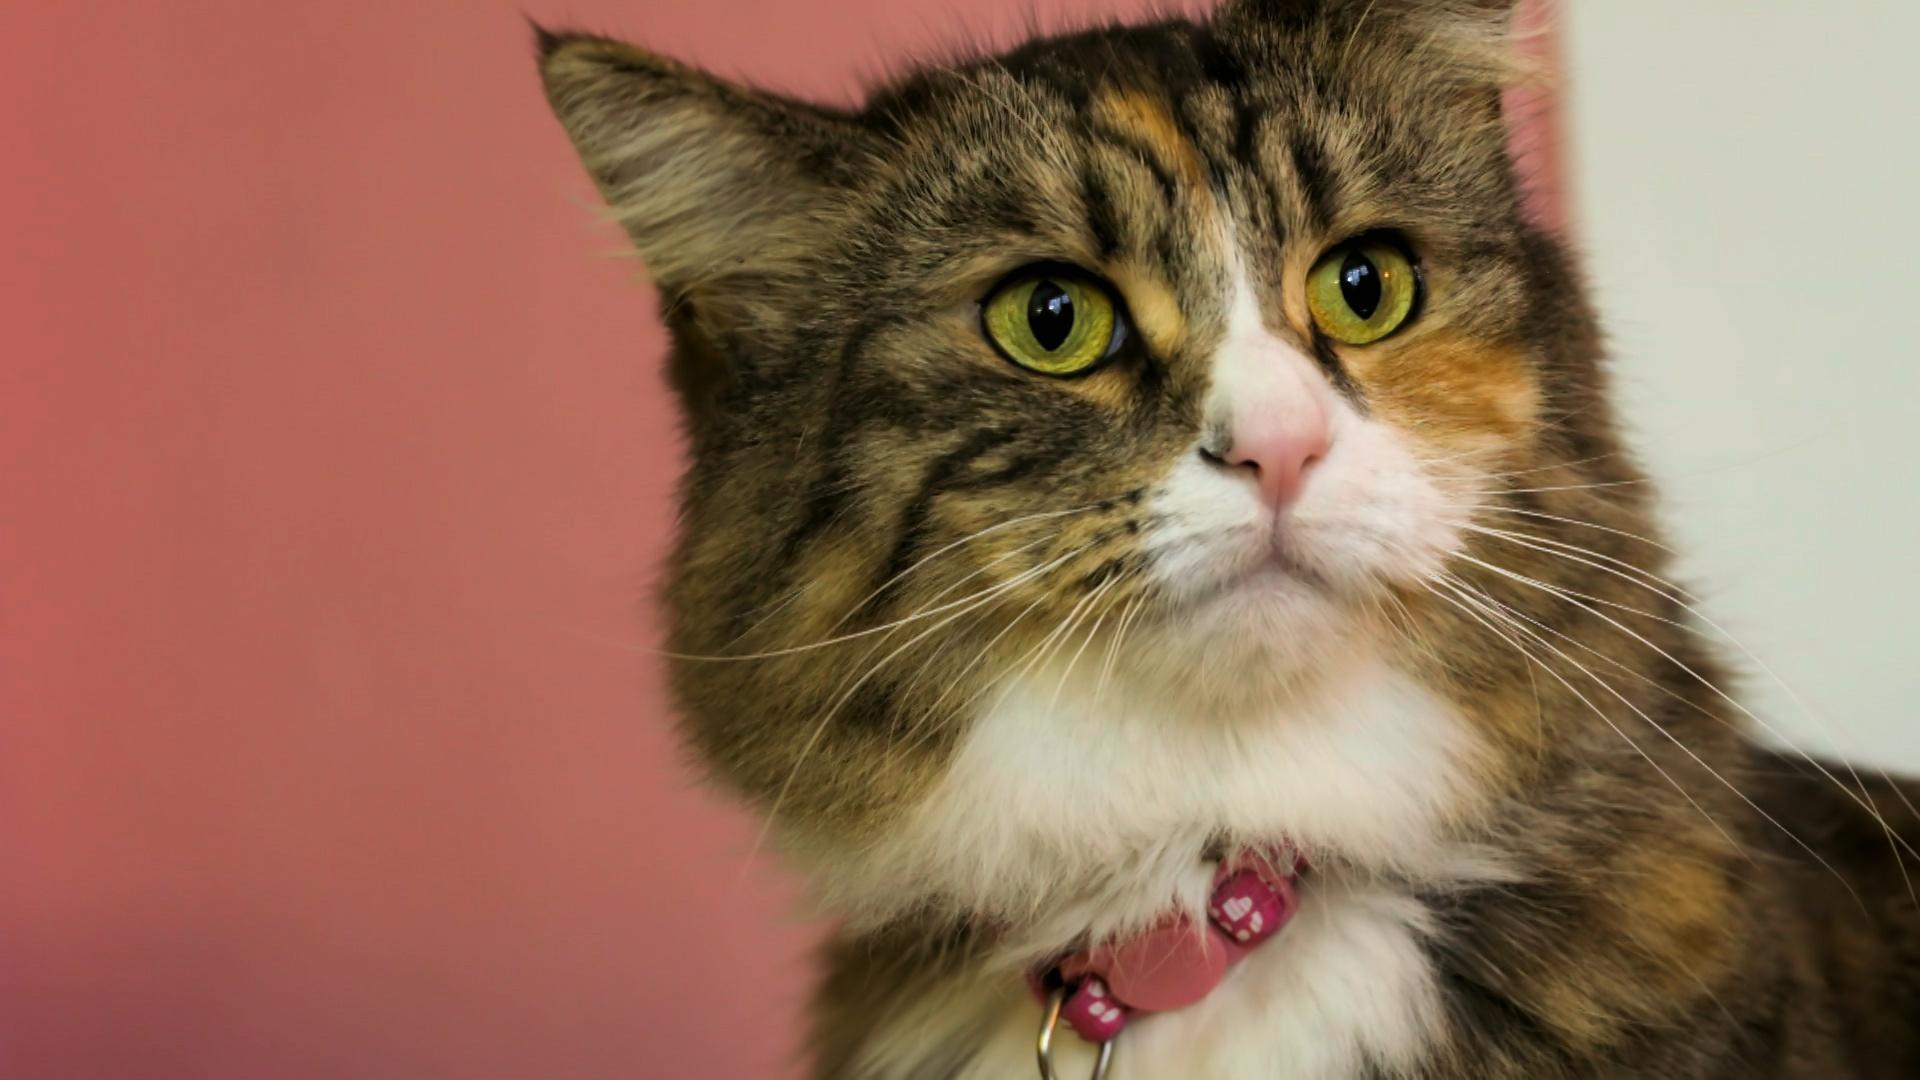Cat: (670, 13, 1584, 642)
